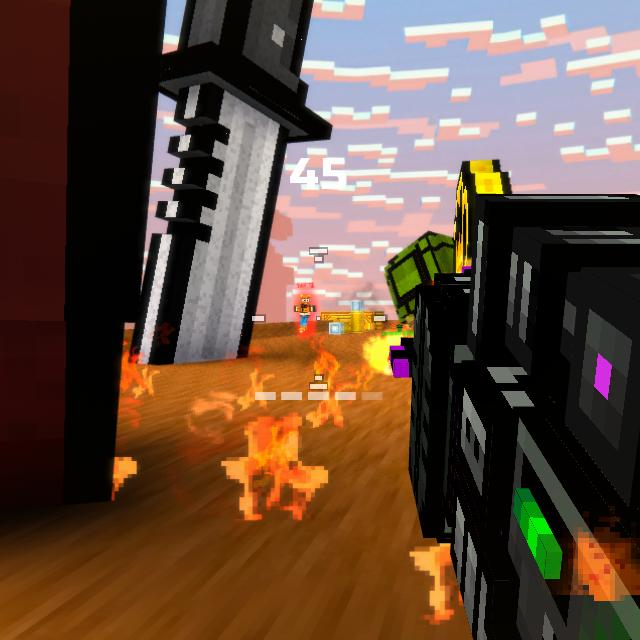Enemy: (295, 295, 316, 332)
